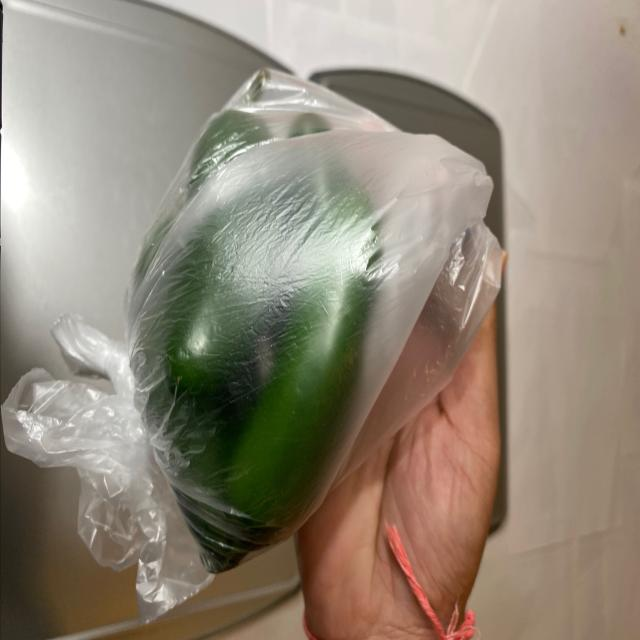chilli: (130, 39, 401, 584)
